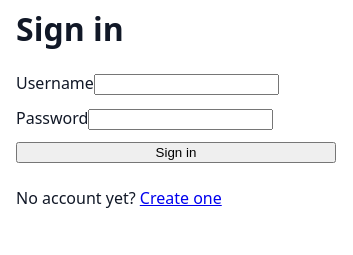
Login › should_show_backend_error_message_when_login_fails
This screenshot has width=353, height=255.
Type "alice" into the field labelled "Username" at (186, 84), box [94,74,279,95]
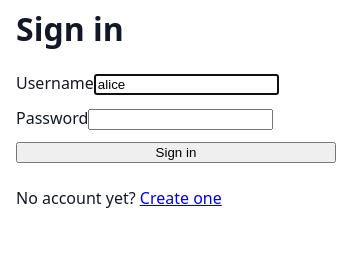
Type "wrongpass" into the password field labelled "Password" at (181, 119), box [88,109,273,130]
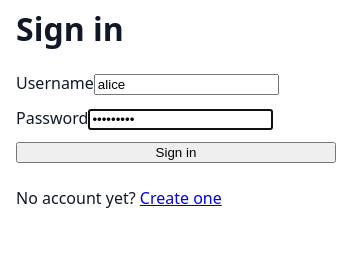
Click the button "Sign in" at (176, 152), box [16,142,336,163]
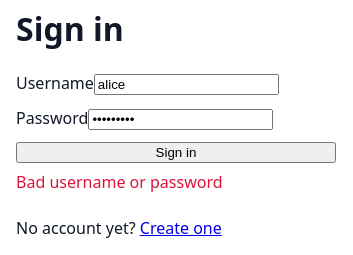
expect the message reads "Bad username or password": met, box [16,171,222,193]
